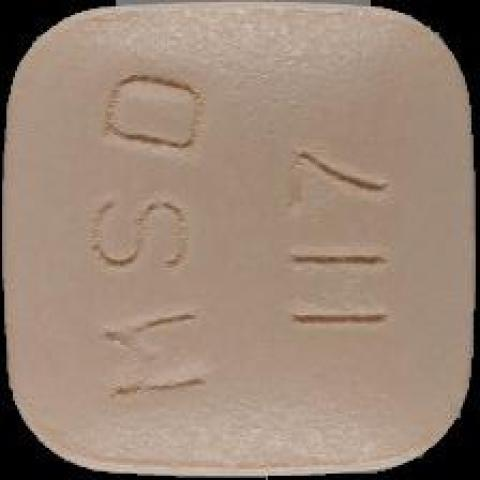Pill: (10, 2, 480, 478)
